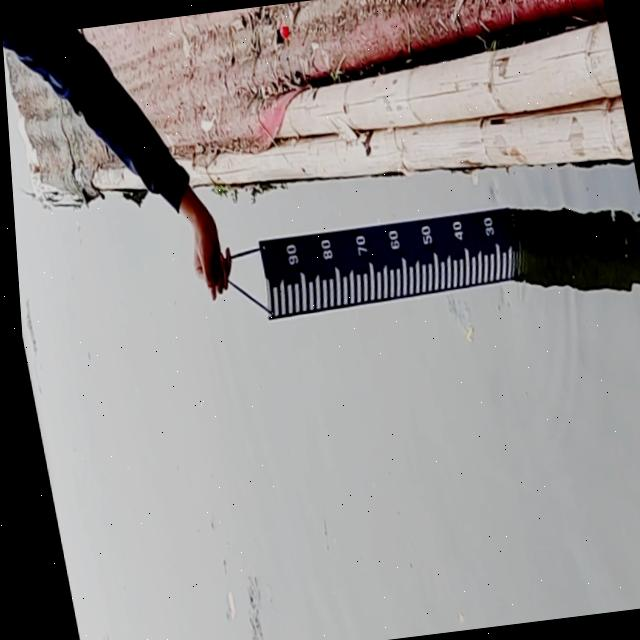water-meter: (238, 181, 551, 335)
